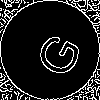G: (25, 25, 85, 81)
